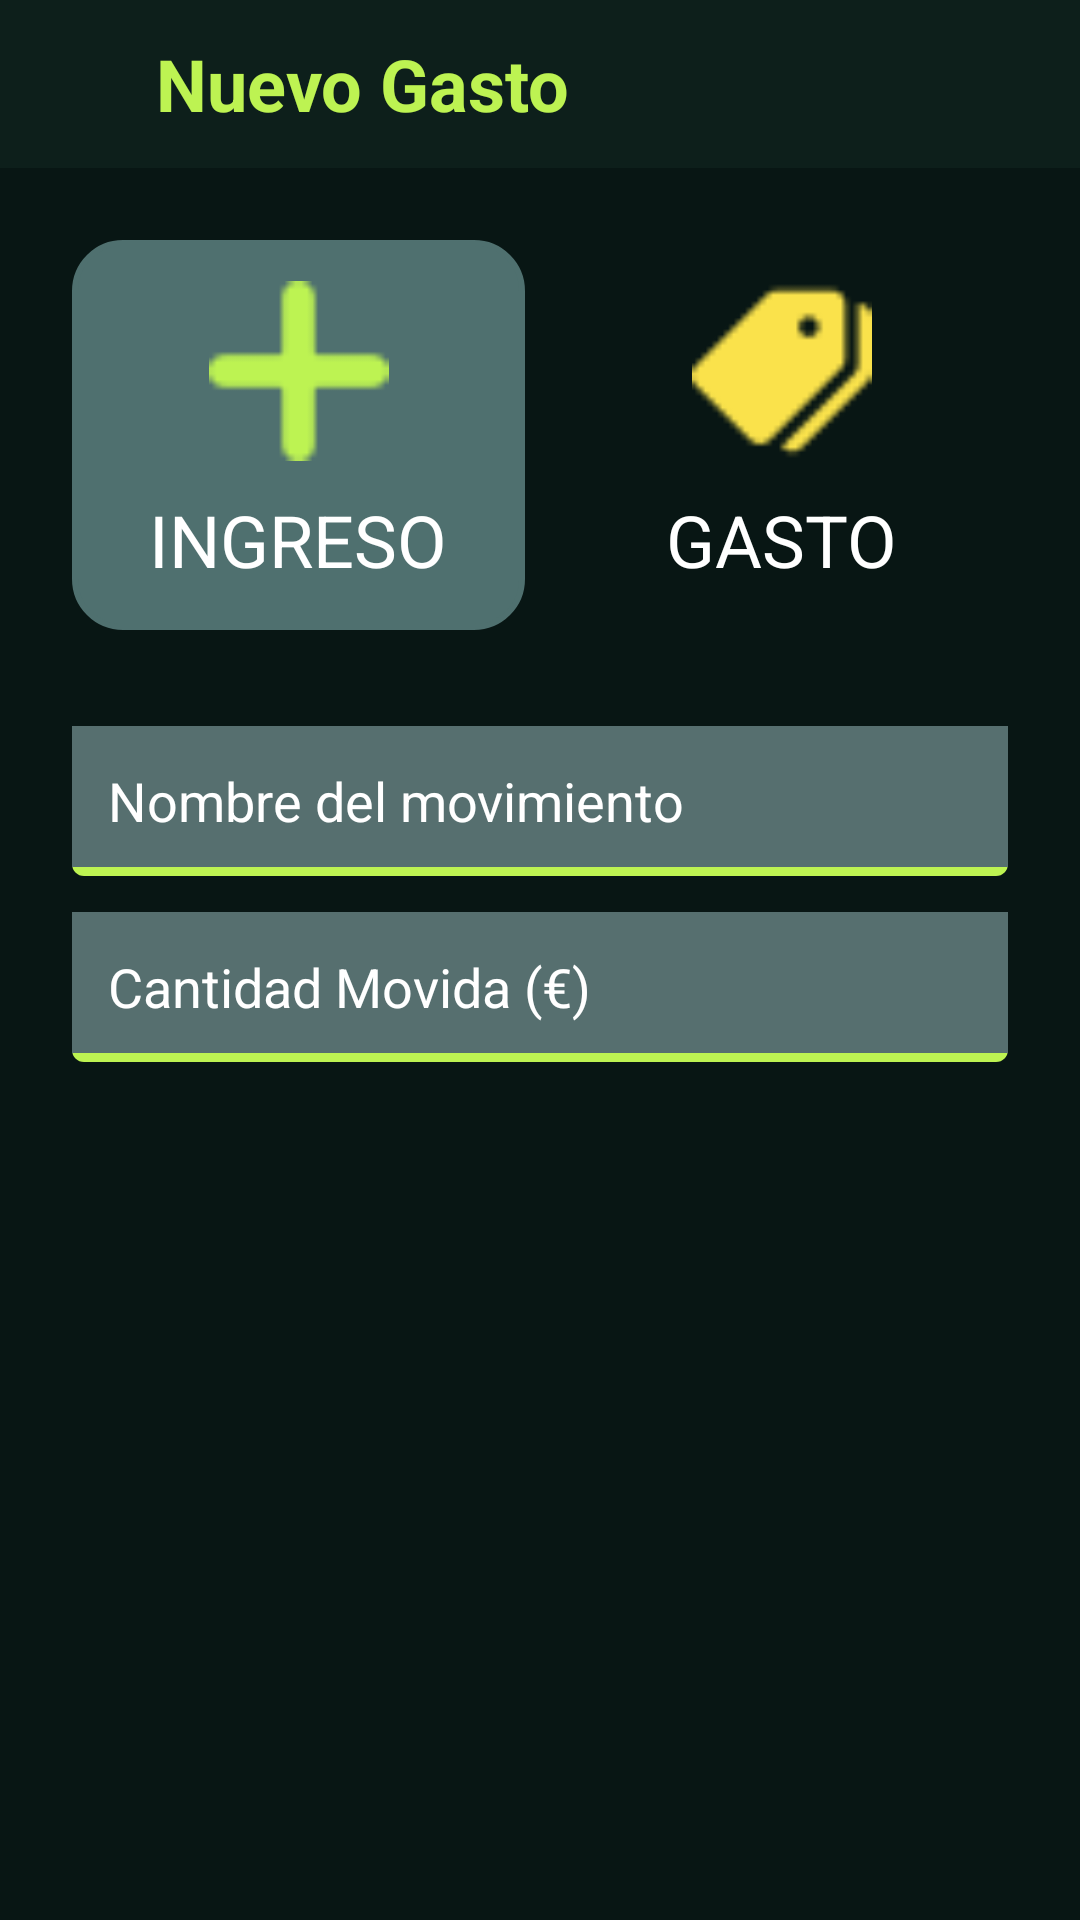

Locate icon controls on the screen. Image size 1080 × 1920, boxes as Rect(x1, y1, x2, y2).
add: Rect(209, 281, 389, 461)
tag: Rect(692, 286, 872, 455)
